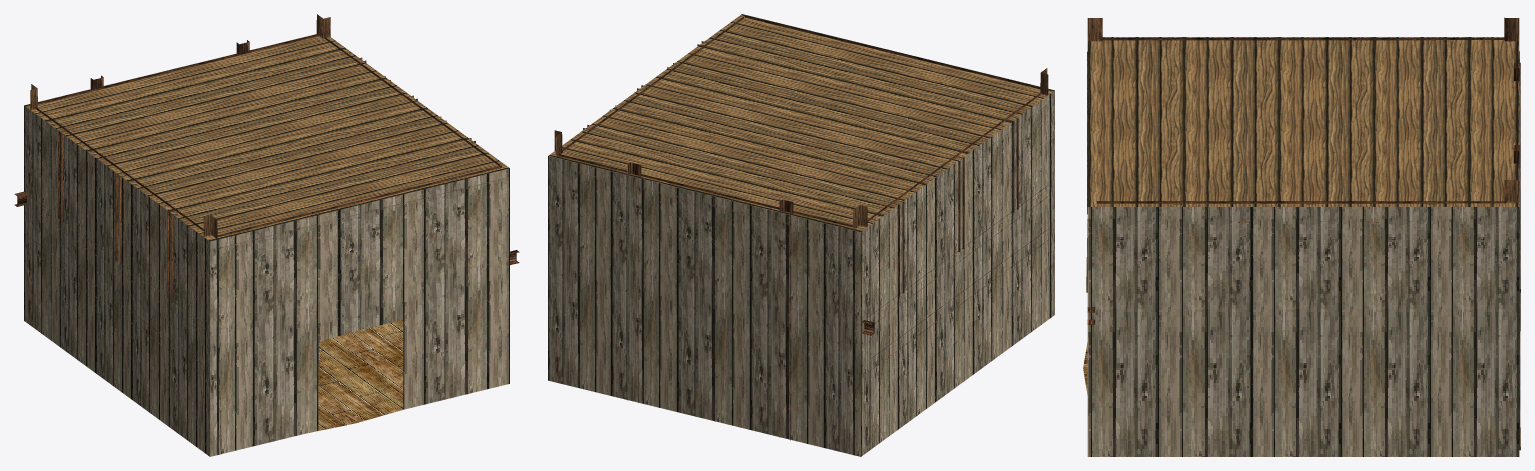
Rendered from LAKETOWN_WAREHOUSE1_PS_WH1_SMROOM074__GX.fbx.
The picture shows the model from 3 angles, left to right: view 1: azimuth 30°, elevation 25°; view 2: azimuth 150°, elevation 25°; view 3: azimuth 270°, elevation 25°; orthographic projection. The views are drawn at different scales.
Visible parts, largest first — view 1: LAKETOWN_WAREHOUSE1_PS_WH1_SMROOM074__GX; view 2: LAKETOWN_WAREHOUSE1_PS_WH1_SMROOM074__GX; view 3: LAKETOWN_WAREHOUSE1_PS_WH1_SMROOM074__GX.
Boxes of the visible parts, x1,y1,x2,y2 form: LAKETOWN_WAREHOUSE1_PS_WH1_SMROOM074__GX: [14, 14, 519, 456]; LAKETOWN_WAREHOUSE1_PS_WH1_SMROOM074__GX: [548, 14, 1054, 456]; LAKETOWN_WAREHOUSE1_PS_WH1_SMROOM074__GX: [1083, 17, 1520, 456].
Size of the model in its own units: 106772 by 75219 by 109120.
7 materials, 7 textured.
